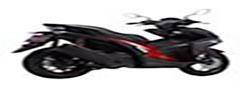motorcycle: (2, 8, 236, 82)
